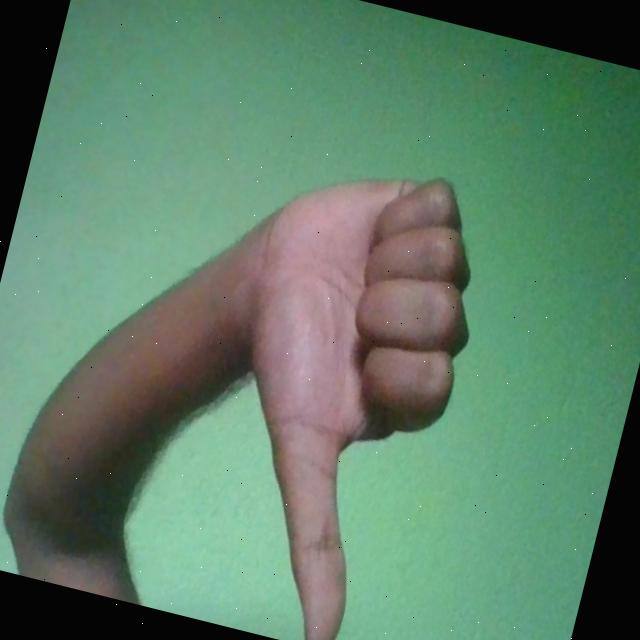Dislike: (171, 141, 504, 640)
